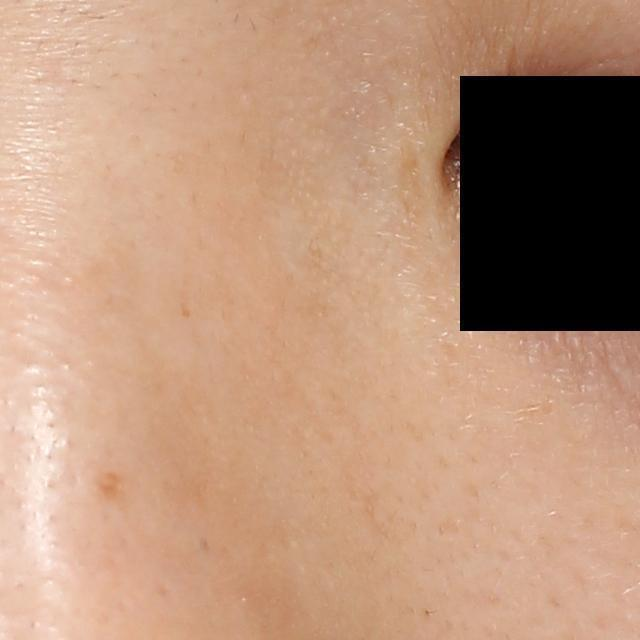melasma: (102, 468, 130, 504)
